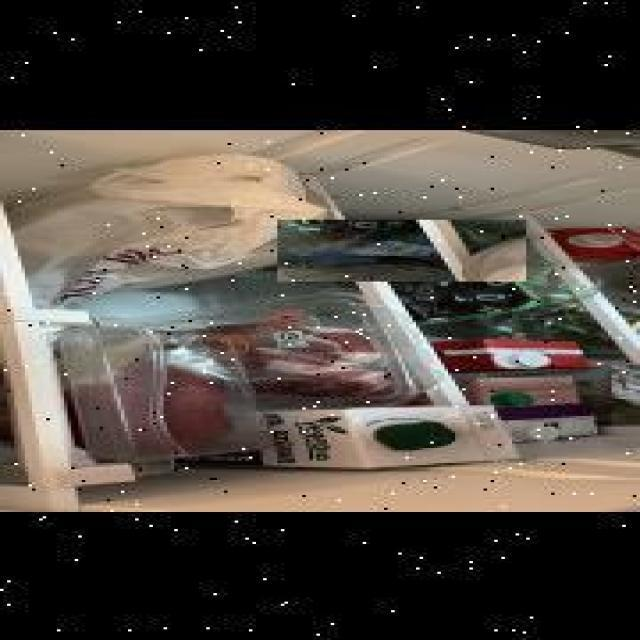avocado: (438, 280, 516, 310)
milk: (252, 400, 512, 468), (446, 333, 603, 371)
salad: (278, 218, 526, 280)
